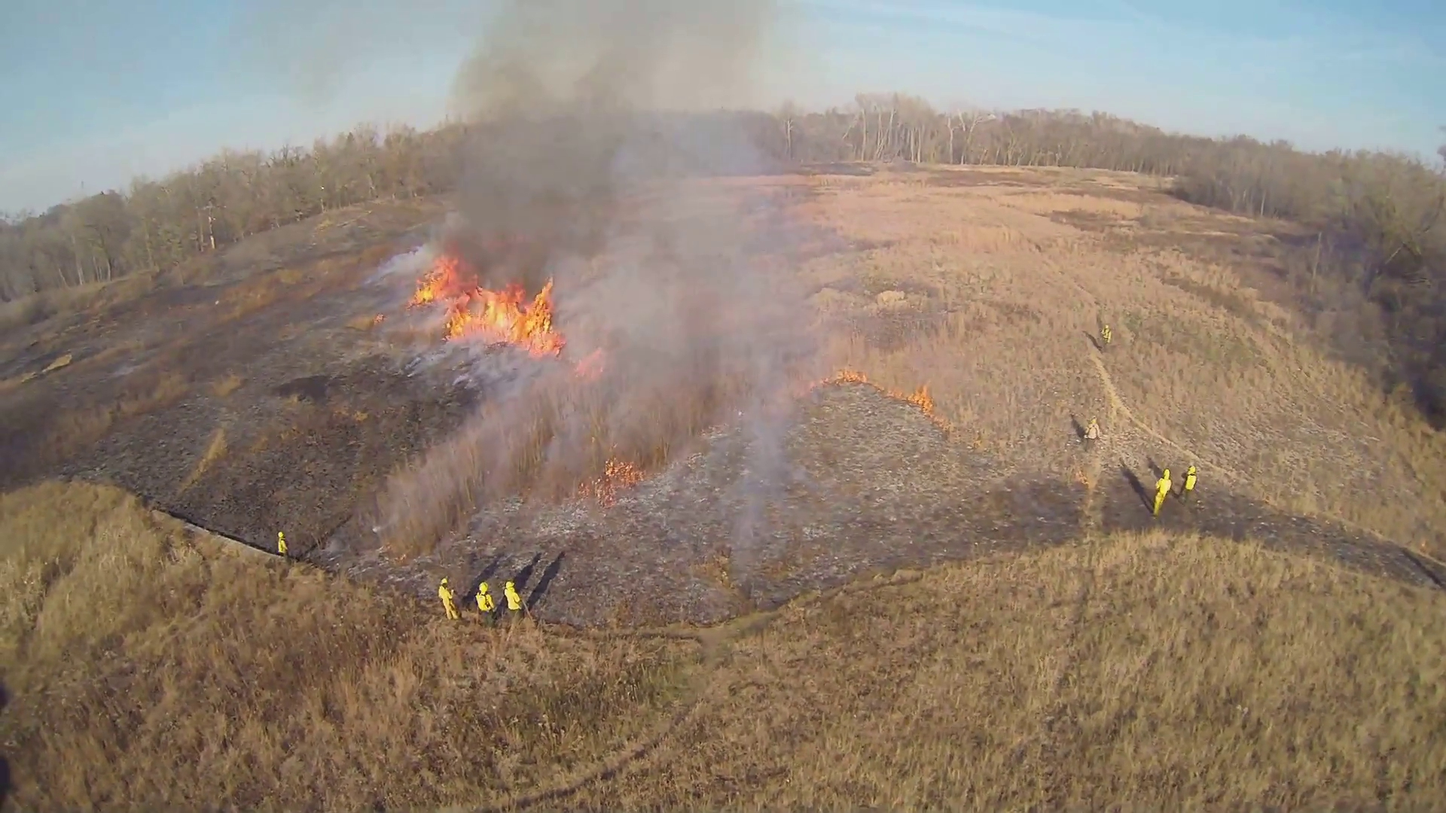forest_fire: (407, 253, 566, 357), (882, 385, 936, 418), (816, 370, 880, 388), (575, 349, 605, 379)
